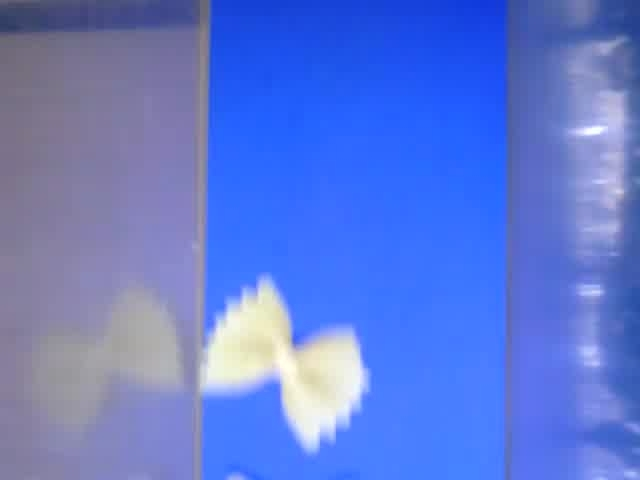farfalle: (192, 272, 372, 453)
